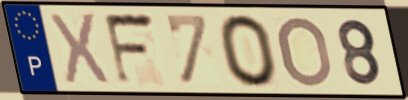7: (163, 12, 211, 88)
8: (336, 16, 384, 88)
F: (101, 11, 159, 88)
O: (215, 12, 281, 90), (276, 14, 336, 90)
X: (47, 11, 112, 88)
